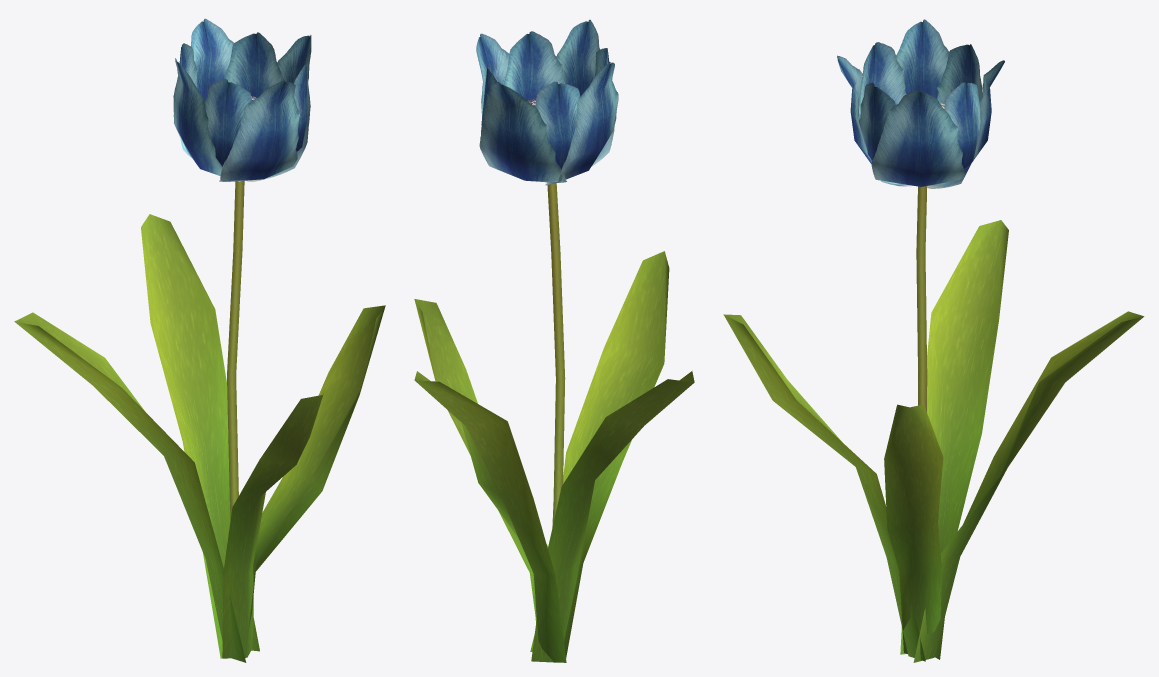
File: m_flower19.fbx
3 renders of one model, left to right at view 1: azimuth 30°, elevation 25°; view 2: azimuth 150°, elevation 25°; view 3: azimuth 270°, elevation 25°, orthographic.
Parts seen in each view (by area): view 1: mesh_flower19; view 2: mesh_flower19; view 3: mesh_flower19.
Boxes of the visible parts, left/top/right/bottom form: mesh_flower19: left=14, top=18, right=385, bottom=662; mesh_flower19: left=414, top=19, right=694, bottom=662; mesh_flower19: left=723, top=19, right=1144, bottom=662.
Bounding box in the file's own units: 0.2325 × 0.4208 × 0.2619.
Materials: 1 (1 with a texture image).
